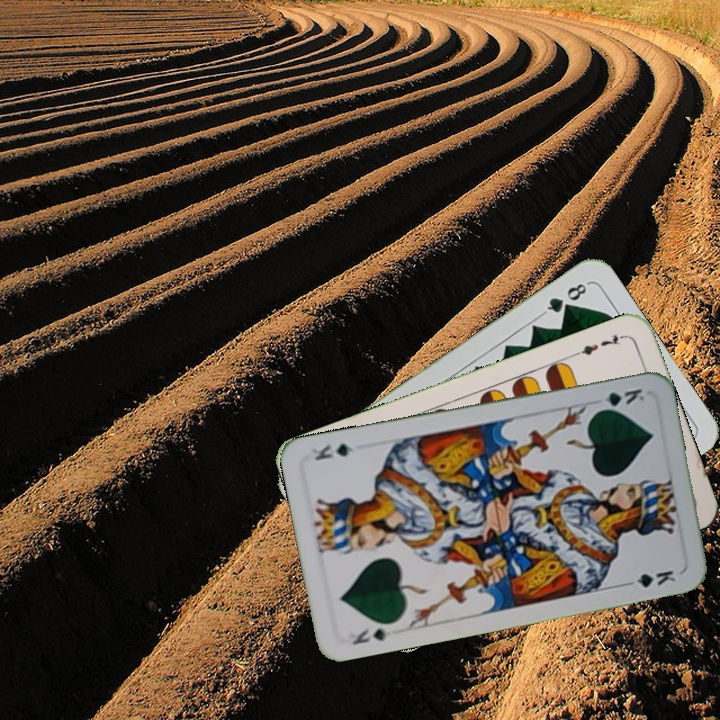E7: (571, 330, 628, 359)
G8: (539, 278, 592, 317)
GK: (591, 384, 647, 414), (348, 624, 399, 648)
